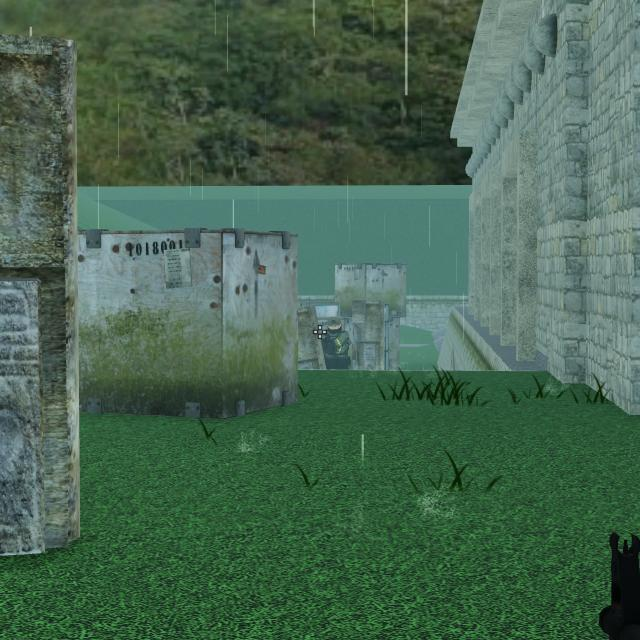Head: (326, 318, 344, 334)
Player: (322, 318, 352, 371)
